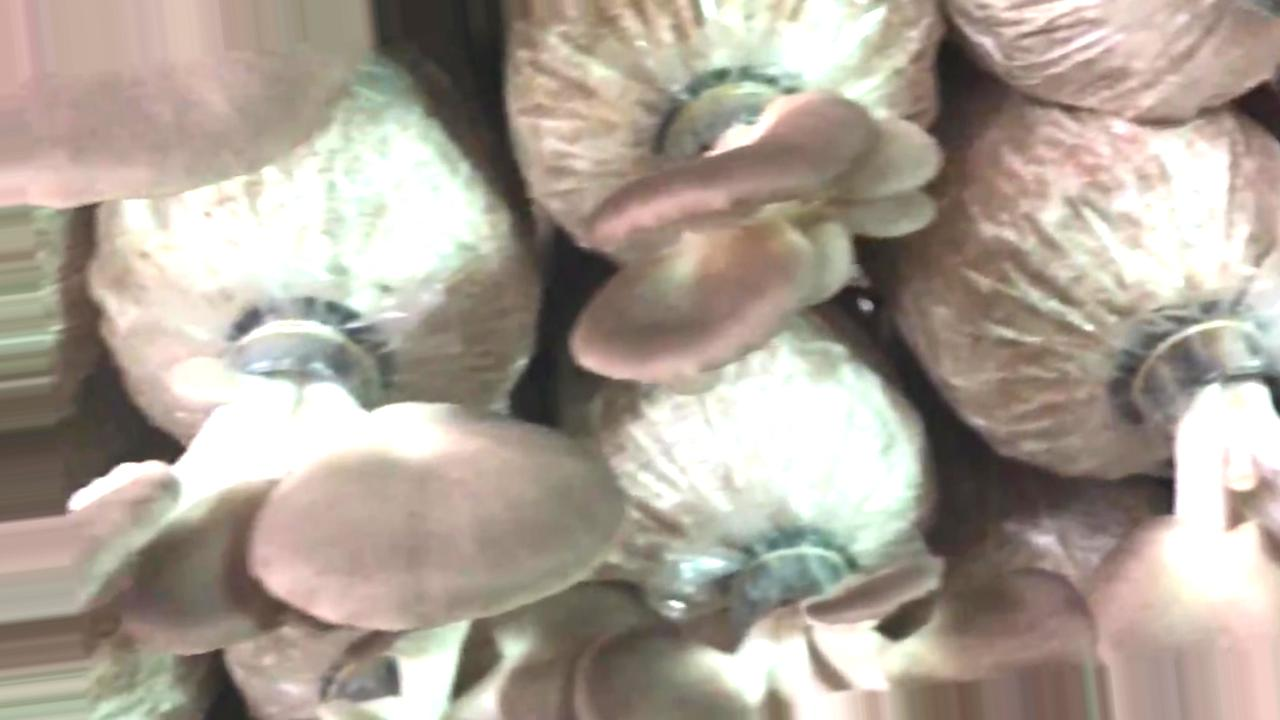nam: (99, 293, 624, 663), (564, 66, 943, 380), (571, 528, 1098, 712), (1, 3, 373, 210), (1091, 310, 1280, 656)
